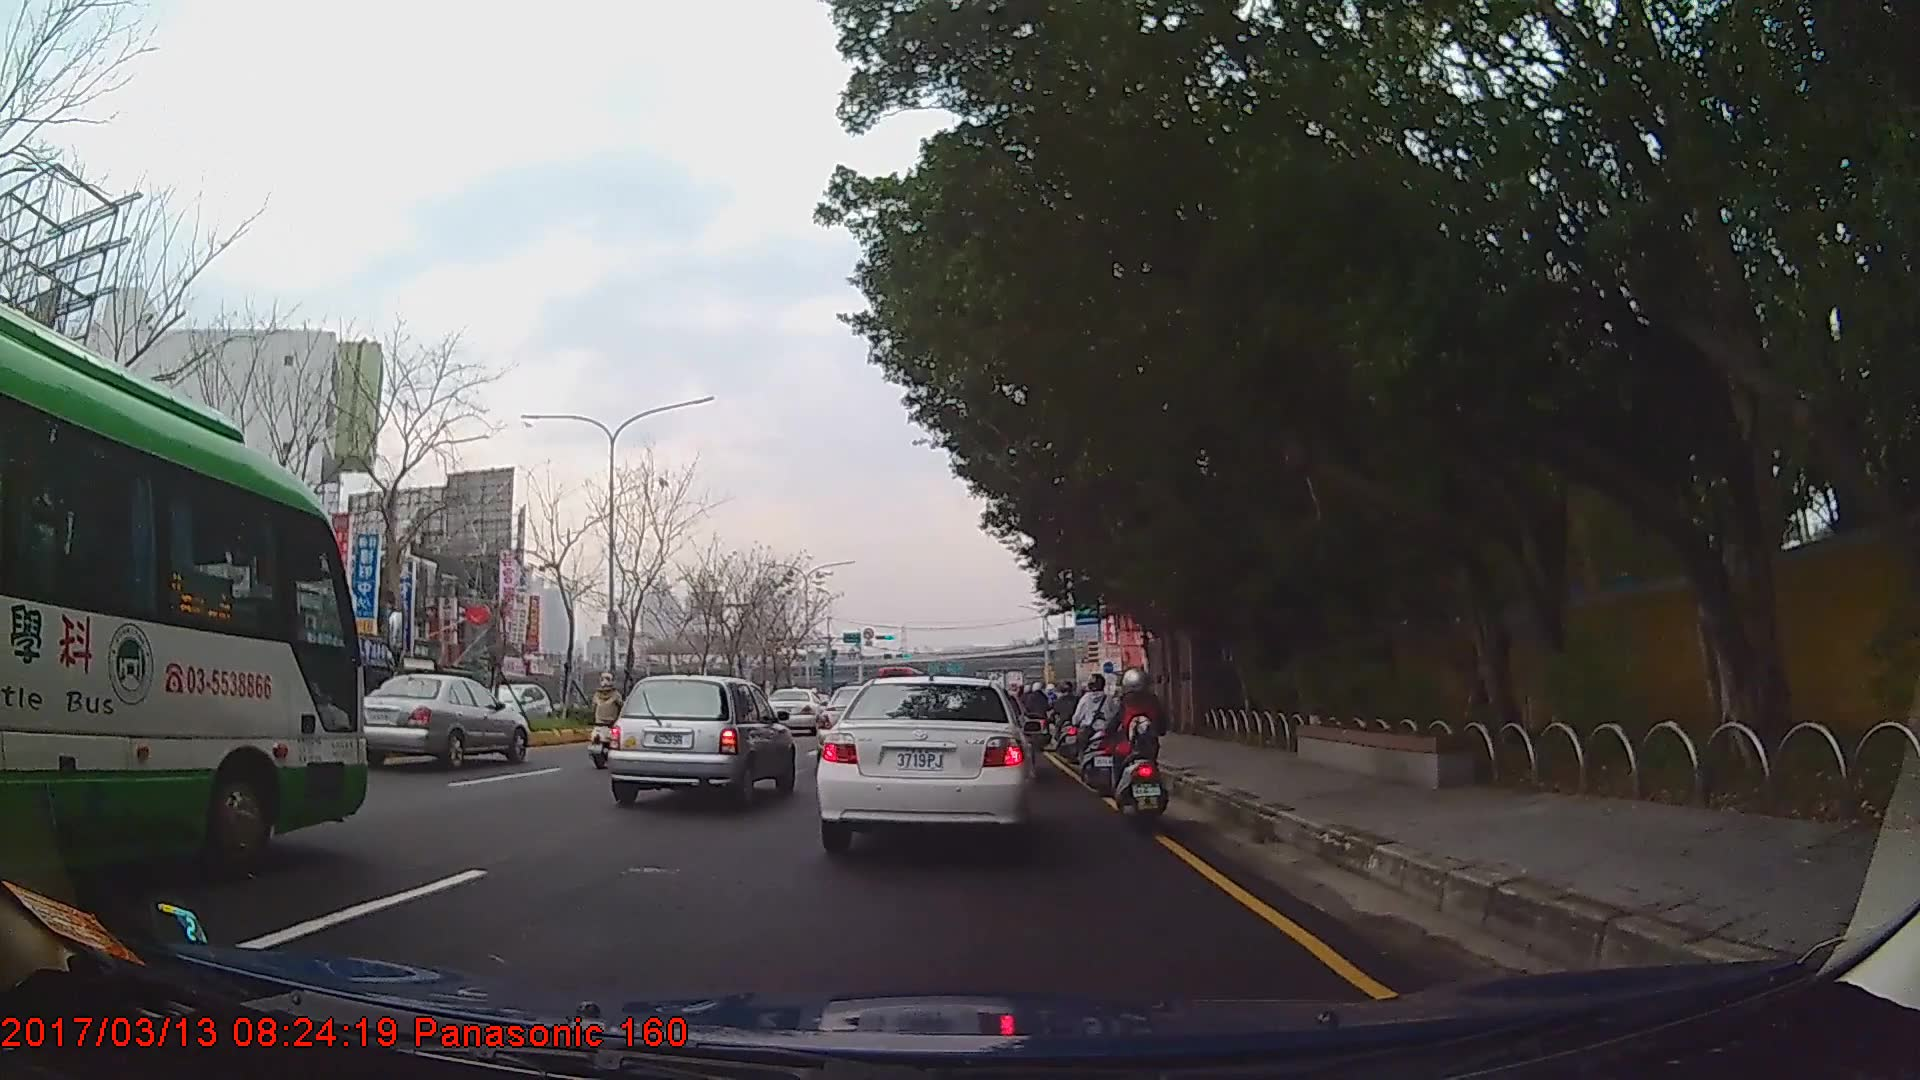rider: (1104, 661, 1164, 820), (1071, 671, 1121, 787), (592, 673, 629, 772), (1055, 682, 1082, 752)
vehicle: (0, 296, 369, 885), (816, 673, 1036, 851), (607, 672, 793, 806), (354, 671, 527, 767), (481, 682, 554, 730), (767, 682, 823, 727)
